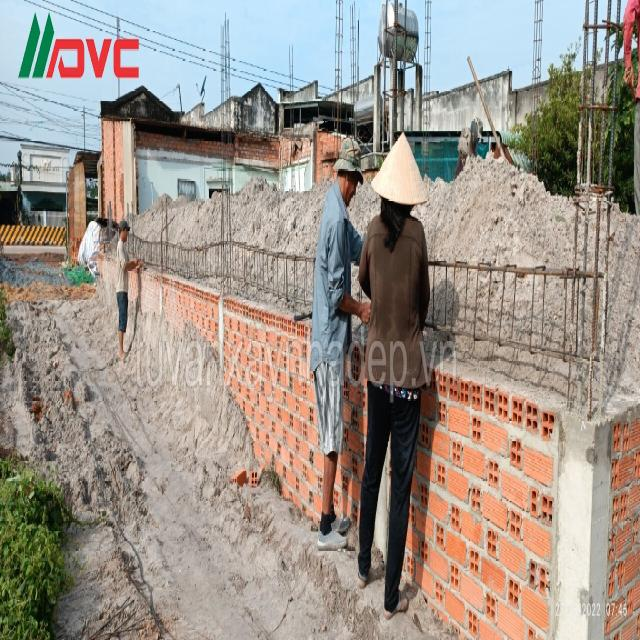no_boots: (378, 583, 414, 628), (320, 513, 346, 557), (322, 499, 351, 536), (358, 546, 368, 593), (120, 352, 131, 361)
no_gloves: (363, 302, 374, 324), (132, 254, 138, 268)
no_hardhat: (381, 126, 420, 213), (333, 130, 358, 198), (119, 215, 129, 238)
no_vest: (366, 224, 426, 387), (307, 189, 348, 372), (116, 243, 131, 298)
person: (357, 131, 430, 622), (310, 130, 374, 562), (114, 214, 145, 363)
